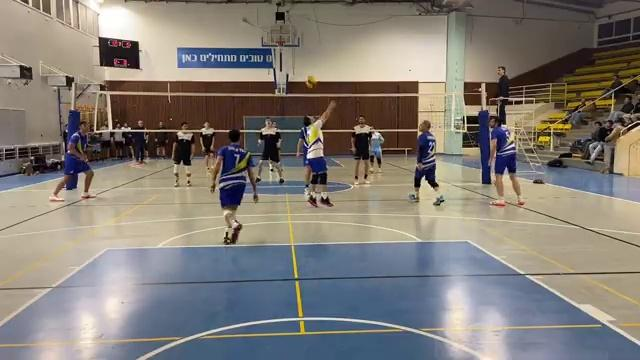ball: (304, 74, 320, 90)
